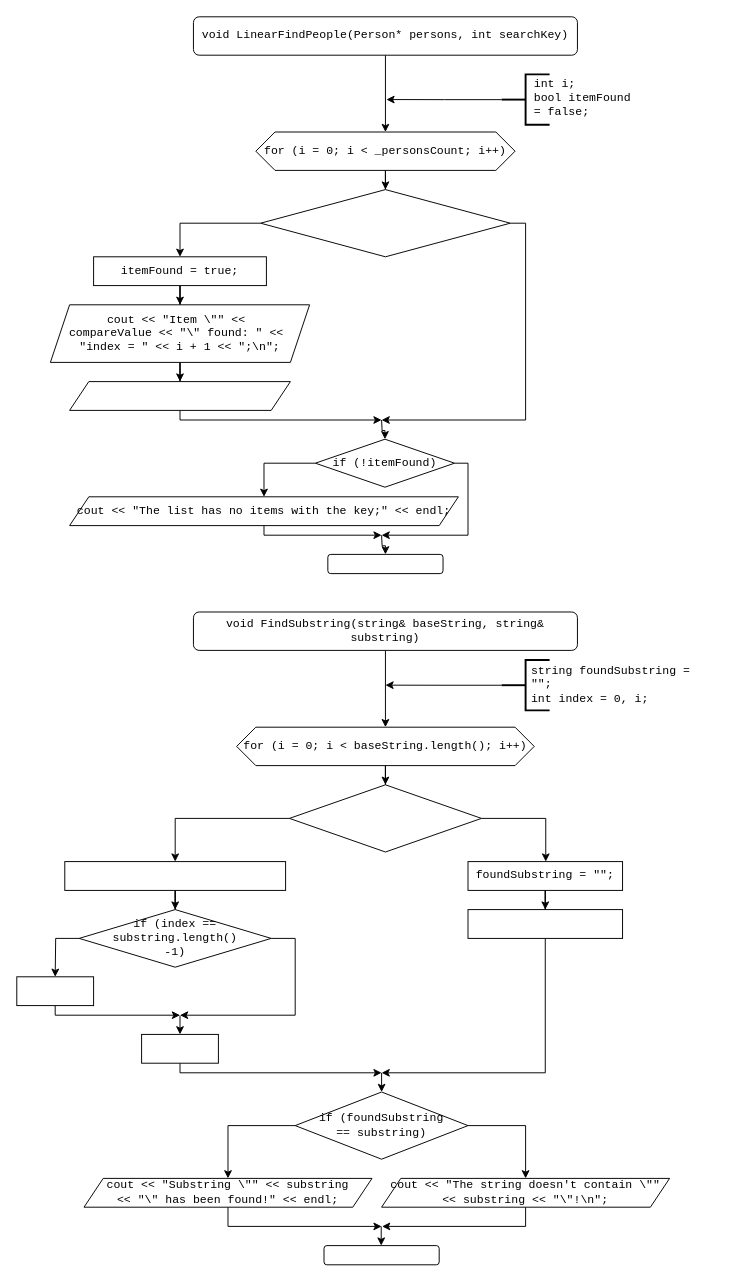
Some shapes in this 729 by 1282 pixel diagram are drawn without their labels. Each missing label, with the centre of its shape:
break;: point (55, 991)
foundSubstring += baseString[i];: point (175, 875)
if (baseString[i] == substring[index]): point (384, 818)
if (persons[i].passportNumber == searchKey): point (385, 223)
index = 0;: point (545, 923)
index++;: point (179, 1048)
PrintPerson(persons[i], i);: point (179, 395)
